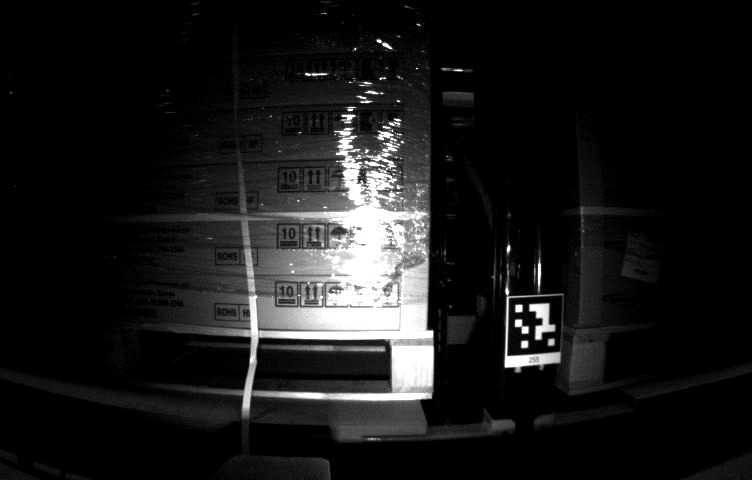True Barcode: (618, 232, 668, 284)
